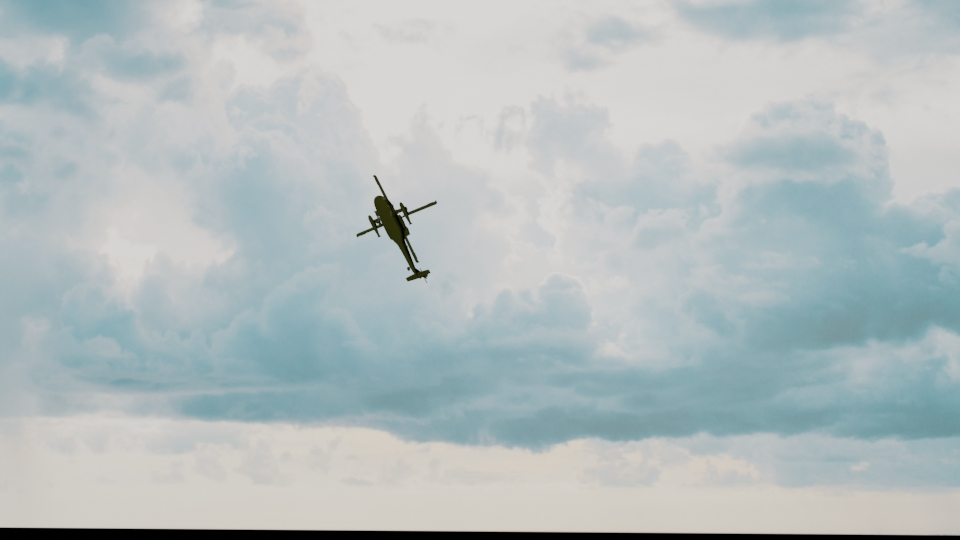heli: (355, 176, 438, 282)
